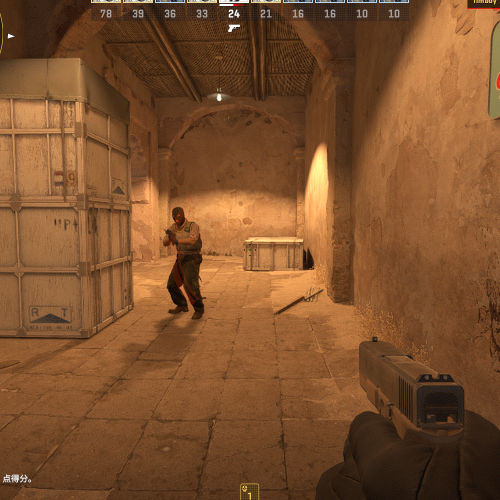t_body: (162, 207, 206, 317)
t_head: (169, 207, 187, 226)
